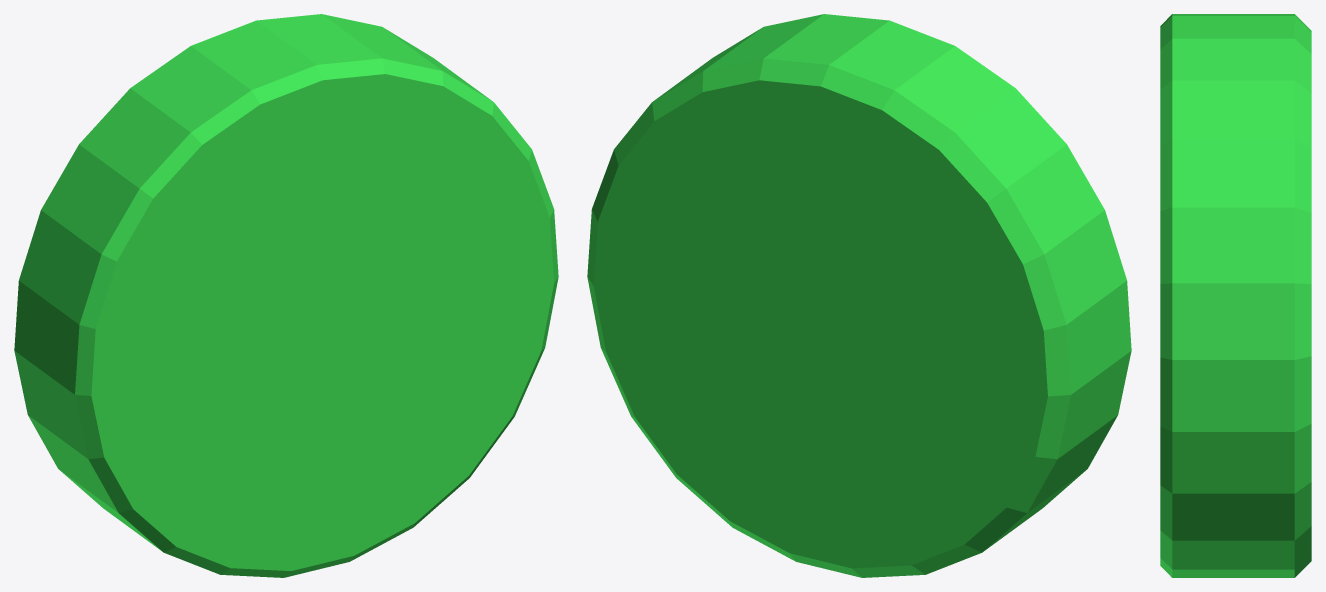
Rendered from pillar_cap.dae.
3 renders of one model, left to right at view 1: azimuth 30°, elevation 25°; view 2: azimuth 150°, elevation 25°; view 3: azimuth 270°, elevation 25°, orthographic.
Visible parts, largest first — view 1: Cylinder.001; view 2: Cylinder.001; view 3: Cylinder.001.
Boxes of the visible parts, x1,y1,x2,y2 form: Cylinder.001: (14,14,558,577); Cylinder.001: (587,14,1131,577); Cylinder.001: (1160,14,1311,577).
Size of the model in its own units: 2.22 by 0.5959 by 2.21.
